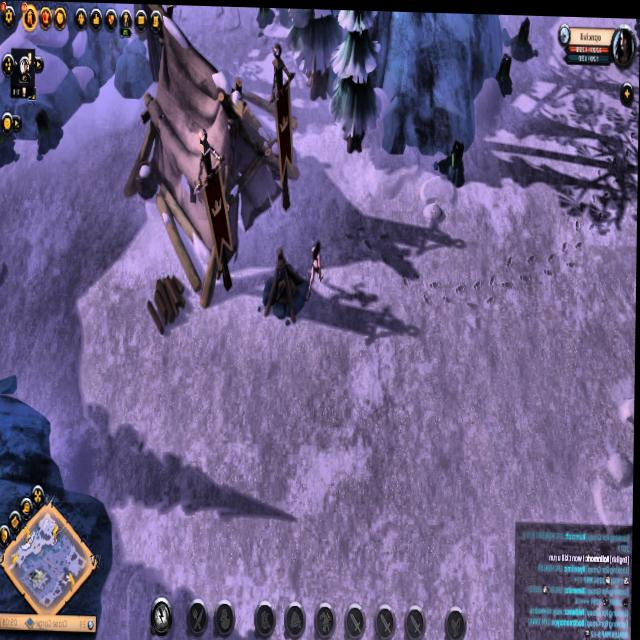tin_ore: (30, 101, 67, 167), (431, 132, 471, 193), (491, 49, 516, 97), (510, 13, 535, 58)
